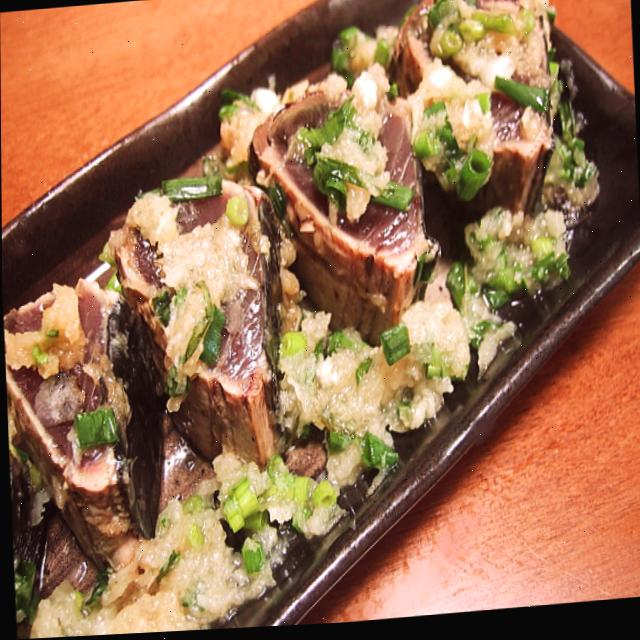熟制海鲜: (0, 2, 607, 574)
